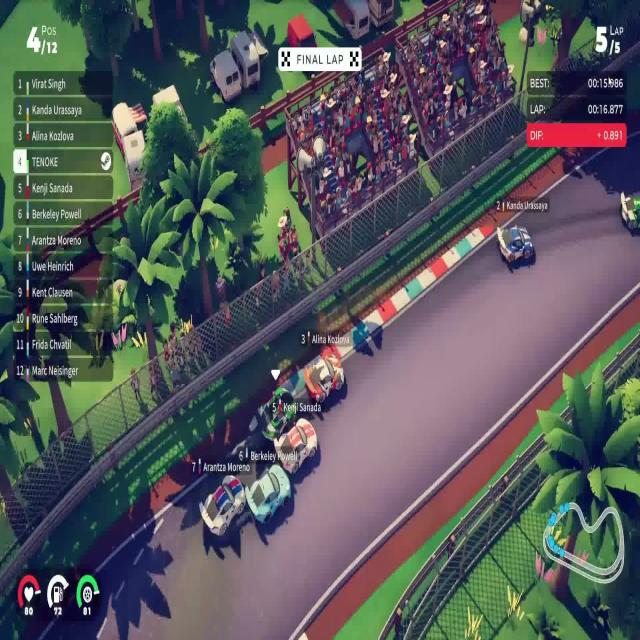car: (198, 473, 245, 538), (244, 462, 291, 526), (298, 351, 349, 404), (274, 419, 318, 475), (256, 385, 296, 437), (496, 222, 534, 267)
